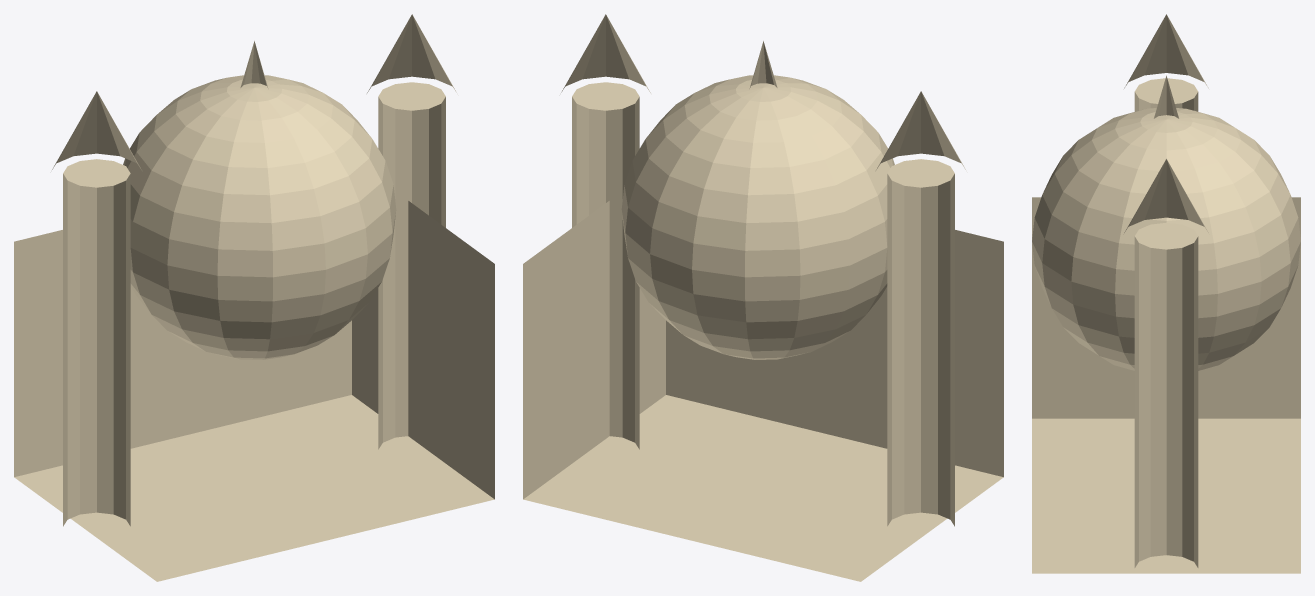
The model's file is islam-masjid.glb.
3 renders of one model, left to right at view 1: azimuth 30°, elevation 25°; view 2: azimuth 150°, elevation 25°; view 3: azimuth 270°, elevation 25°, orthographic. The views are drawn at different scales.
Visible parts, largest first — view 1: islam-masjid.glb; view 2: islam-masjid.glb; view 3: islam-masjid.glb.
Boxes of the visible parts, bbox=[...] form: islam-masjid.glb: bbox=[14, 14, 494, 581]; islam-masjid.glb: bbox=[523, 14, 1003, 581]; islam-masjid.glb: bbox=[1032, 14, 1300, 573].
Size of the model in its own units: 1.76 by 1.9 by 1.1.
